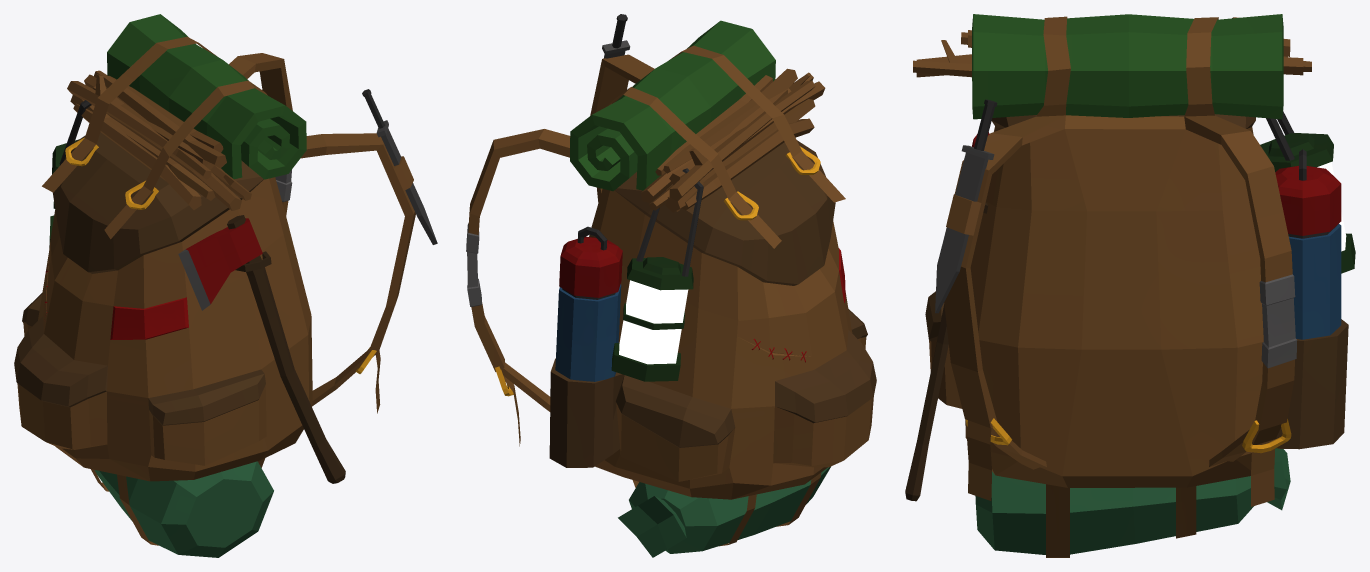
The model's file is Backpack.fbx.
3 renders of one model, left to right at view 1: azimuth 30°, elevation 25°; view 2: azimuth 150°, elevation 25°; view 3: azimuth 270°, elevation 25°, orthographic. The views are drawn at different scales.
Parts seen in each view (by area): view 1: Backpack, Hatchet, Lantern; view 2: Backpack, Can, Lantern; view 3: Backpack, Can, Lantern, Hatchet.
Boxes of the visible parts, left/top/right/bottom form: Backpack: left=14, top=14, right=437, bottom=557; Hatchet: left=178, top=215, right=345, bottom=483; Lantern: left=49, top=100, right=91, bottom=247; Backpack: left=466, top=14, right=876, bottom=557; Can: left=555, top=226, right=622, bottom=381; Lantern: left=611, top=168, right=703, bottom=381; Backpack: left=913, top=14, right=1348, bottom=557; Can: left=1275, top=149, right=1341, bottom=339; Lantern: left=1260, top=111, right=1355, bottom=273; Hatchet: left=905, top=132, right=989, bottom=501.
Bounding box in the file's own units: 47.55 × 61.76 × 44.94.
2 materials, 1 textured.
